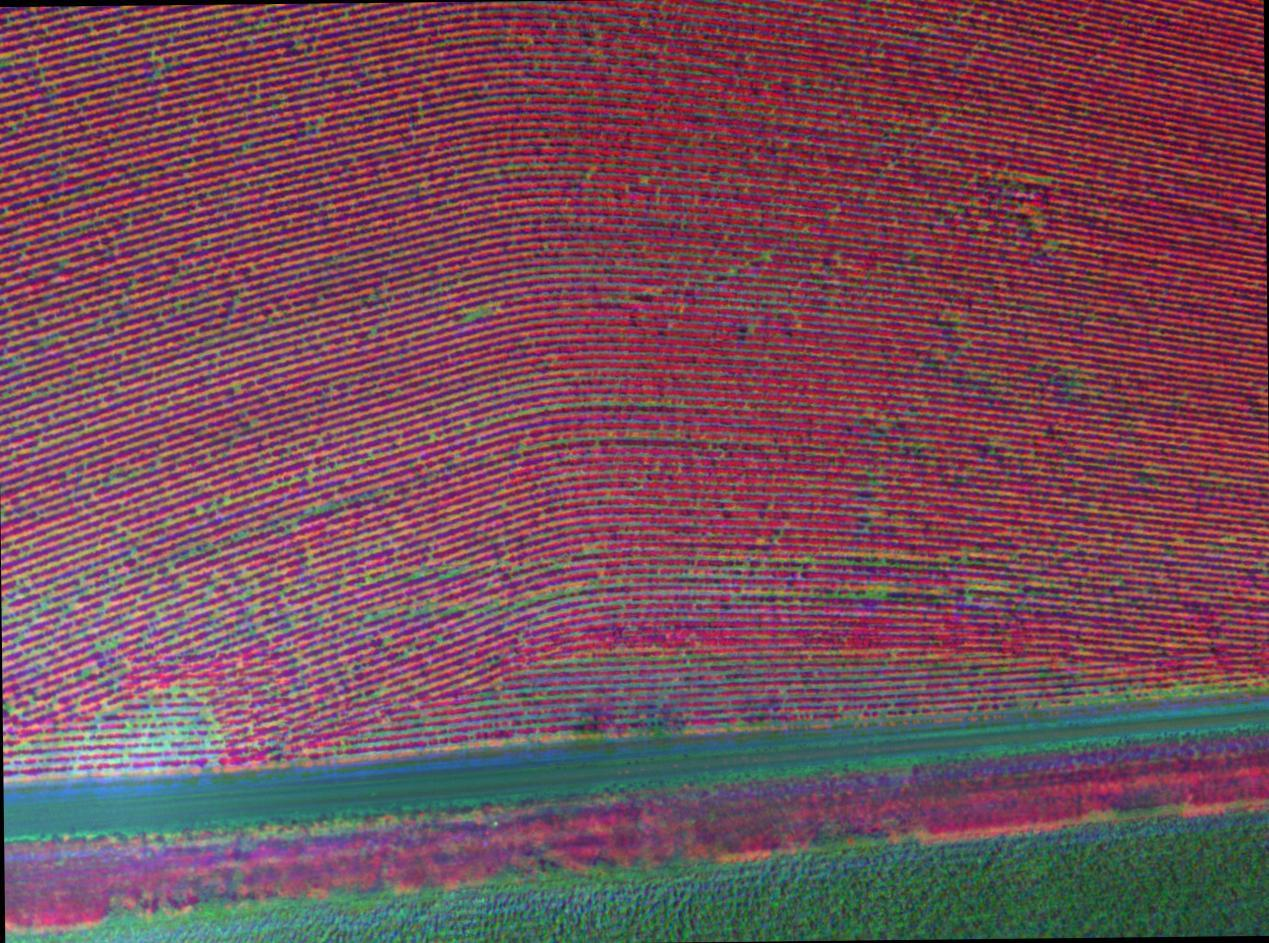dc: (465, 308, 489, 319), (867, 584, 879, 597), (96, 641, 111, 650), (762, 249, 773, 261), (2, 602, 12, 613), (428, 601, 436, 609), (197, 507, 204, 514), (966, 595, 972, 603), (413, 570, 419, 576), (307, 474, 311, 481)
